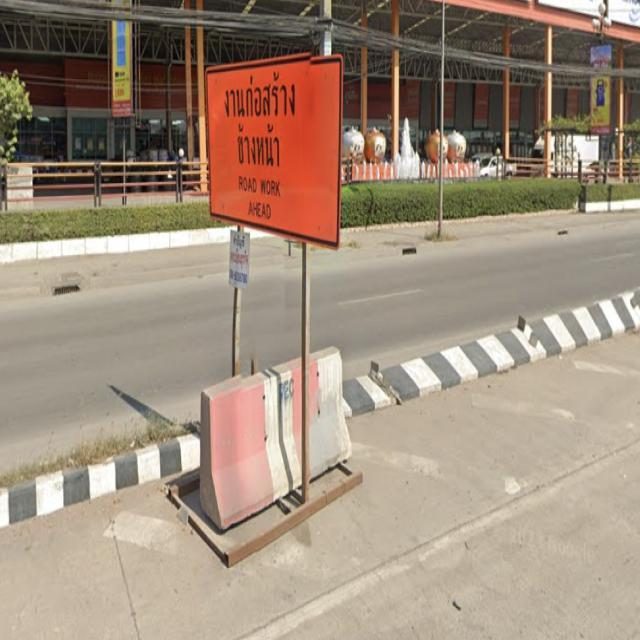fallen_object: (186, 342, 381, 512)
